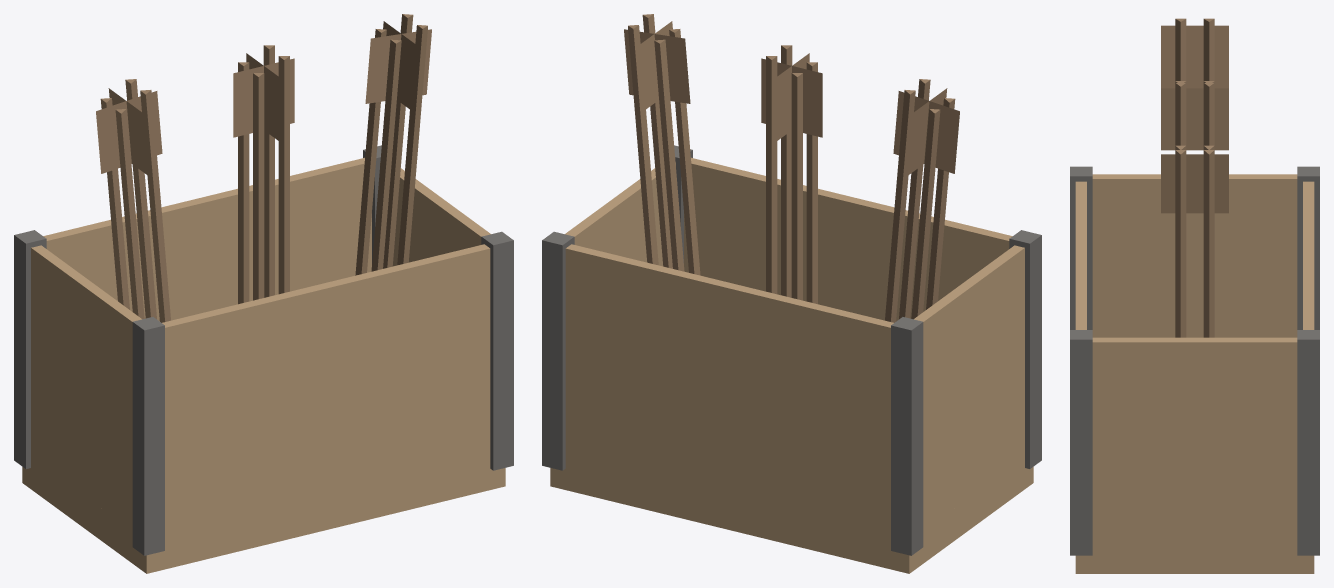
File: prop-arrow-crate.fbx
3 renders of one model, left to right at view 1: azimuth 30°, elevation 25°; view 2: azimuth 150°, elevation 25°; view 3: azimuth 270°, elevation 25°, orthographic. The views are drawn at different scales.
Parts seen in each view (by area): view 1: prop-arrow-crate; view 2: prop-arrow-crate; view 3: prop-arrow-crate.
Boxes of the visible parts, x1=… form: prop-arrow-crate: x1=14, y1=14, x2=513, y2=573; prop-arrow-crate: x1=542, y1=14, x2=1041, y2=573; prop-arrow-crate: x1=1070, y1=18, x2=1319, y2=573.
Size of the model in its own units: 0.72 by 0.8001 by 0.44.
